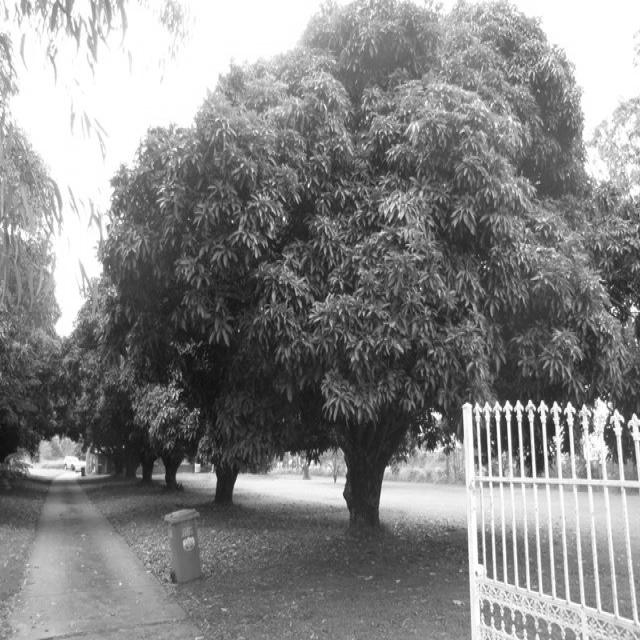Mango-Tree: (78, 6, 622, 513)
